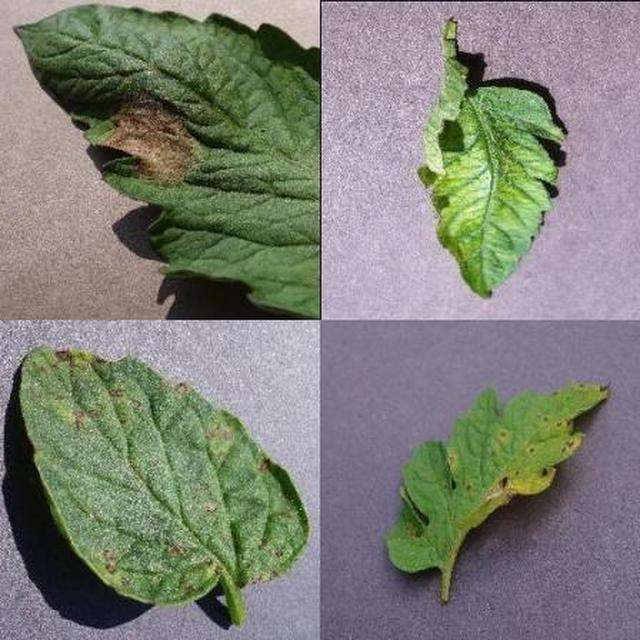Late Blight Leaf: (212, 229, 640, 640)
